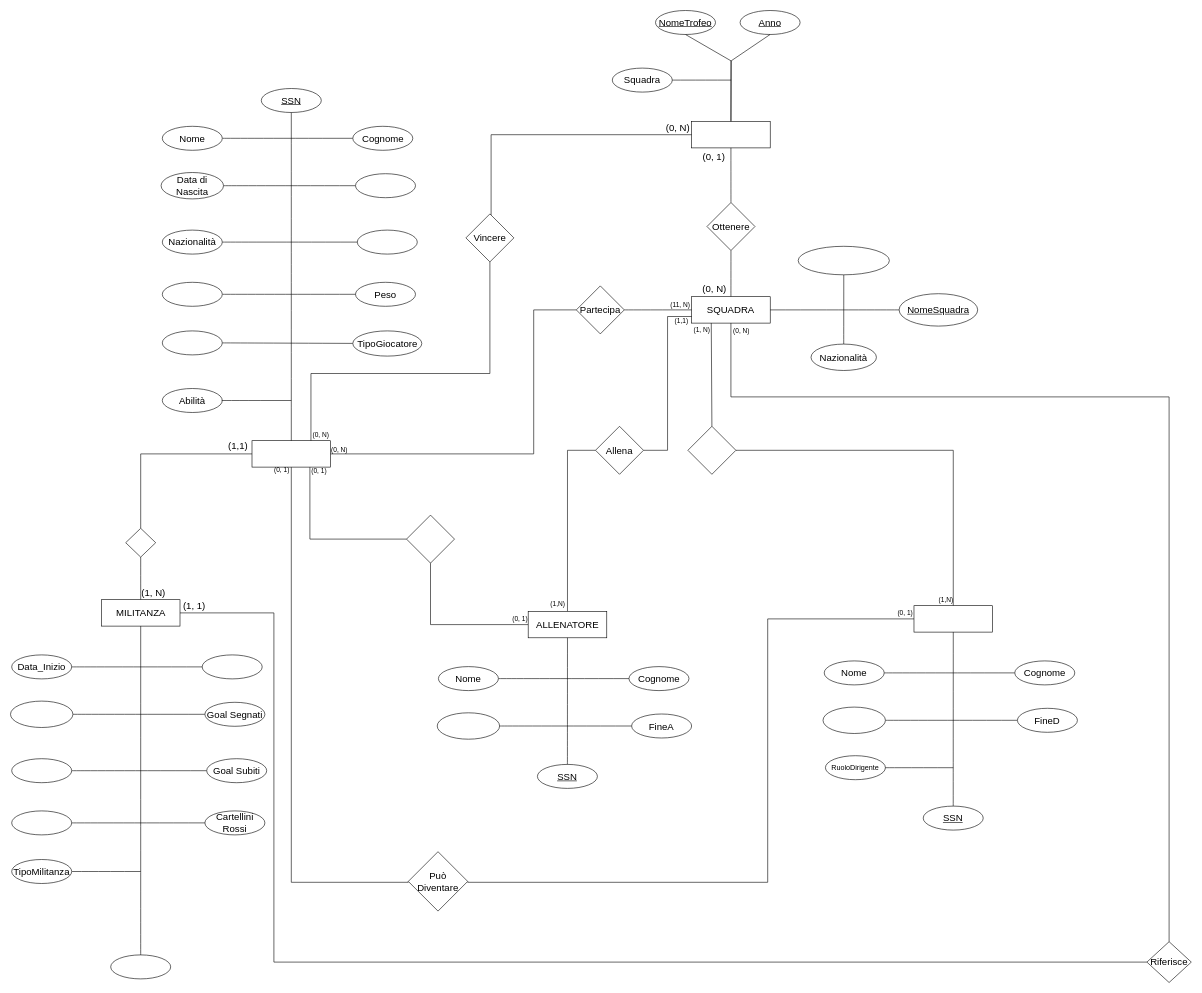
Some shapes in this 1202 by 993 pixel diagram are drawn without their labels. The shapes that lost their labels are listed below. From the top down, each one's centre as x and y in pixels, then its label:
the point at 730,134: TROFEO
the point at 385,185: Piede
the point at 387,242: Altezza
the point at 843,260: Data_Fondazione
the point at 192,294: Ruoli
the point at 192,342: Ritirato
the point at 291,453: GIOCATORE
the point at 711,450: Dirige
the point at 140,542: Ha
the point at 430,538: Può essere
the point at 953,618: DIRIGENTE
the point at 232,666: Data_Fine
the point at 41,714: Partite Giocate
the point at 468,725: InizioA
the point at 853,720: InizioD
the point at 41,770: Assist
the point at 41,822: Cartellini Gialli
the point at 140,966: ID_Militanza
